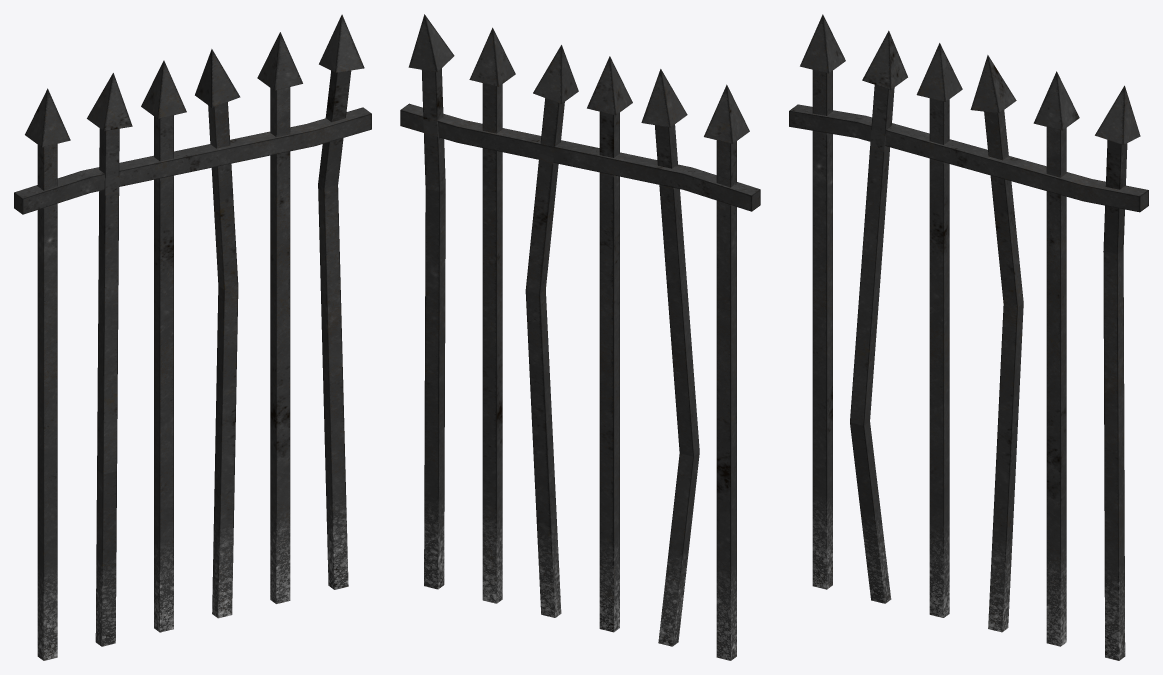
Rendered from Fence6.fbx.
3 renders of one model, left to right at view 1: azimuth 30°, elevation 25°; view 2: azimuth 150°, elevation 25°; view 3: azimuth 330°, elevation 25°, orthographic.
Parts seen in each view (by area): view 1: Cube.030; view 2: Cube.030; view 3: Cube.030.
Part boxes in pixels (x1,y1,x2,y2): Cube.030: (14,14,371,660); Cube.030: (400,14,760,660); Cube.030: (789,14,1148,660).
Size of the model in its own units: 600 by 934 by 67.97.
